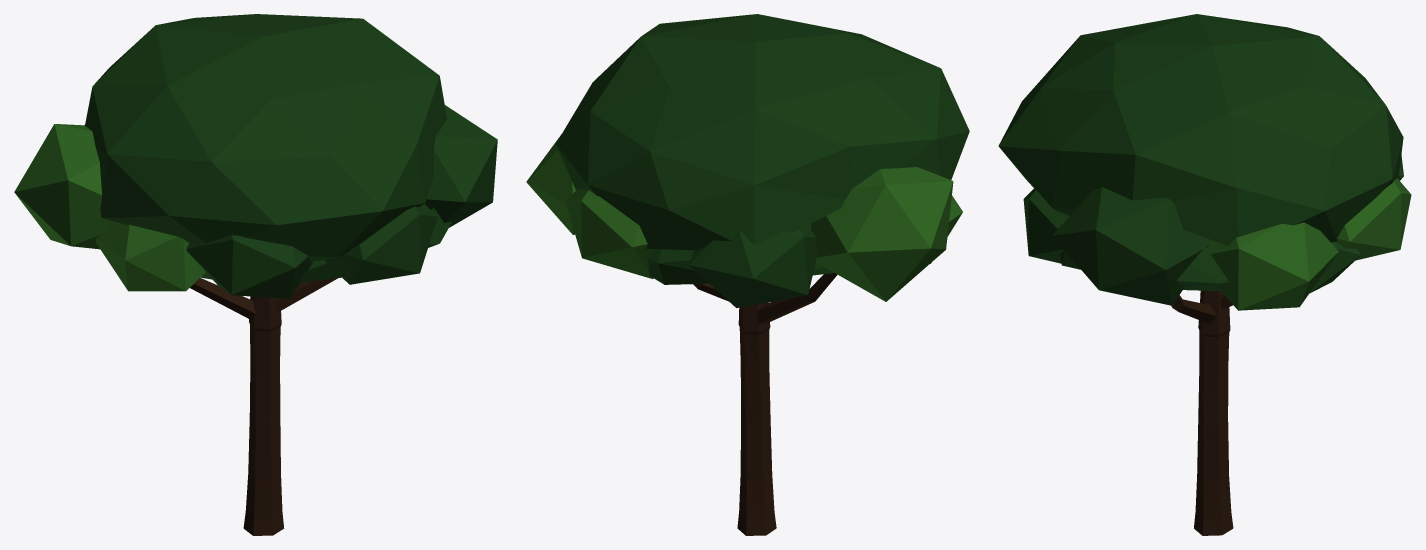
Rendered from tree_1.fbx.
3 renders of one model, left to right at view 1: azimuth 30°, elevation 25°; view 2: azimuth 150°, elevation 25°; view 3: azimuth 270°, elevation 25°, orthographic. The views are drawn at different scales.
Visible parts, largest first — view 1: crown-mesh, trunk-mesh; view 2: crown-mesh, trunk-mesh; view 3: crown-mesh, trunk-mesh.
Part boxes in pixels (box(x1,y1,x2,y2)): crown-mesh: box(14, 14, 497, 331); trunk-mesh: box(243, 325, 284, 535); crown-mesh: box(526, 14, 969, 334); trunk-mesh: box(737, 327, 776, 535); crown-mesh: box(998, 14, 1411, 336); trunk-mesh: box(1194, 331, 1233, 535).
Size of the model in its own units: 7.34 by 8.54 by 6.63.
